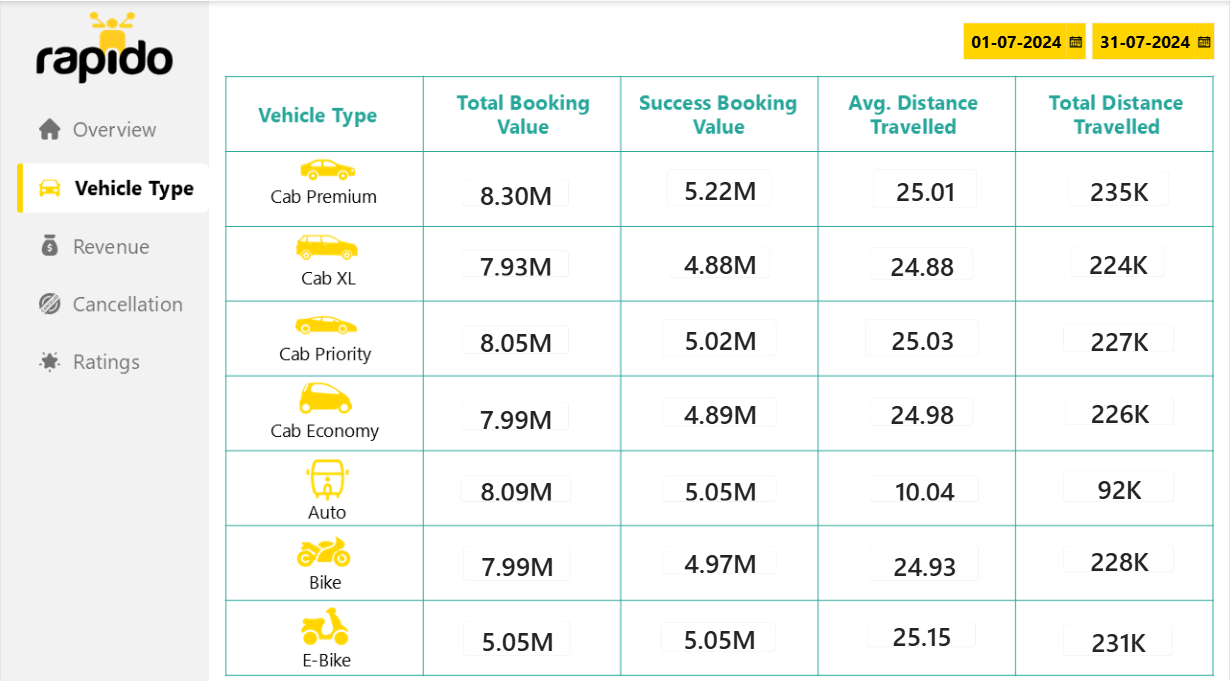

What the dashboard file says about the page in this screenshot:
{"tool":"powerbi","page":{"name":"Vehicle Type","canvas":[1280,720],"ordinal":1},"visuals":[{"type":"actionButton","box":[16.7,106.7,175,51.7],"z":0},{"type":"actionButton","box":[16.7,226.7,175,51.7],"z":1000},{"type":"actionButton","box":[26.7,291.7,175,51.7],"z":2000},{"type":"actionButton","box":[26.7,348.3,175,51.7],"z":3000},{"type":"cardVisual","fields":{"Data":["Sum(Bookings.Booking_Value)"]},"box":[462.6,168.8,146.9,62.5],"z":4000},{"type":"cardVisual","fields":{"Data":["Sum(Bookings.Booking_Value)"]},"box":[462.6,242.3,146.9,62.5],"z":5000},{"type":"cardVisual","fields":{"Data":["Sum(Bookings.Booking_Value)"]},"box":[462.6,320.4,146.9,64.1],"z":6000},{"type":"cardVisual","fields":{"Data":["Sum(Bookings.Booking_Value)"]},"box":[462.6,400.1,146.9,64.1],"z":7000},{"type":"cardVisual","fields":{"Data":["Sum(Bookings.Booking_Value)"]},"box":[461.1,476.7,150,62.5],"z":8000},{"type":"cardVisual","fields":{"Data":["Sum(Bookings.Booking_Value)"]},"box":[464.2,550.2,146.9,71.9],"z":9000},{"type":"cardVisual","fields":{"Data":["Sum(Bookings.Booking_Value)"]},"box":[464.2,628.3,146.9,71.9],"z":10000},{"type":"cardVisual","fields":{"Data":["Sum(Bookings.Booking_Value)"]},"box":[676.8,157.9,143.8,73.5],"z":11000},{"type":"cardVisual","fields":{"Data":["Sum(Bookings.Booking_Value)"]},"box":[678.3,237.6,140.7,68.8],"z":12000},{"type":"cardVisual","fields":{"Data":["Sum(Bookings.Booking_Value)"]},"box":[672.1,314.2,153.2,73.5],"z":13000},{"type":"cardVisual","fields":{"Data":["Sum(Bookings.Booking_Value)"]},"box":[672.1,395.4,153.2,65.6],"z":14000},{"type":"cardVisual","fields":{"Data":["Sum(Bookings.Booking_Value)"]},"box":[672.1,476.7,153.2,62.5],"z":15000},{"type":"cardVisual","fields":{"Data":["Sum(Bookings.Booking_Value)"]},"box":[672.1,550.2,153.2,64.1],"z":16000},{"type":"cardVisual","fields":{"Data":["Sum(Bookings.Booking_Value)"]},"box":[670.5,629.9,154.7,65.6],"z":17000},{"type":"cardVisual","fields":{"Data":["Avg(Bookings.Ride_Distance)"]},"box":[890.9,157.9,143.8,75],"z":18000},{"type":"cardVisual","fields":{"Data":["Sum(Bookings.Ride_Distance)"]},"box":[1094.1,159.4,140.7,71.9],"z":19000},{"type":"cardVisual","fields":{"Data":["Avg(Bookings.Ride_Distance)"]},"box":[887.8,239.1,142.2,68.8],"z":20000},{"type":"cardVisual","fields":{"Data":["Sum(Bookings.Ride_Distance)"]},"box":[1097.2,237.6,132.9,67.2],"z":21000},{"type":"cardVisual","fields":{"Data":["Avg(Bookings.Ride_Distance)"]},"box":[883.1,314.2,153.2,73.5],"z":22000},{"type":"cardVisual","fields":{"Data":["Avg(Bookings.Ride_Distance)"]},"box":[887.8,395.4,142.2,64.1],"z":23000},{"type":"cardVisual","fields":{"Data":["Avg(Bookings.Ride_Distance)"]},"box":[887.8,476.7,148.5,62.5],"z":24000},{"type":"cardVisual","fields":{"Data":["Avg(Bookings.Ride_Distance)"]},"box":[887.8,550.2,148.5,71.9],"z":25000},{"type":"cardVisual","fields":{"Data":["Avg(Bookings.Ride_Distance)"]},"box":[884.7,628.3,148.5,62.5],"z":26000},{"type":"cardVisual","fields":{"Data":["Sum(Bookings.Ride_Distance)"]},"box":[1089.4,318.8,150,64.1],"z":27000},{"type":"cardVisual","fields":{"Data":["Sum(Bookings.Ride_Distance)"]},"box":[1091,393.9,148.5,65.6],"z":28000},{"type":"cardVisual","fields":{"Data":["Sum(Bookings.Ride_Distance)"]},"box":[1089.4,631.4,148.5,68.8],"z":29000},{"type":"cardVisual","fields":{"Data":["Sum(Bookings.Ride_Distance)"]},"box":[1089.4,472,150,67.2],"z":30000},{"type":"cardVisual","fields":{"Data":["Sum(Bookings.Ride_Distance)"]},"box":[1089.4,550.2,150,62.5],"z":31000},{"type":"slicer","fields":{"Values":["Bookings.Date"]},"box":[989.4,12.5,289.2,64.1],"z":32000}]}

Visuals, with their boxes on the page's 1280x720 design canvas (x1, y1, x2, y2). These are canvas units, not pixel positions in the 1230x681 screenshot, which may show the page scaled, cropped or inside an application window:
actionButton: bbox=[17, 107, 192, 158]
actionButton: bbox=[17, 227, 192, 278]
actionButton: bbox=[27, 292, 202, 343]
actionButton: bbox=[27, 348, 202, 400]
cardVisual - Sum(Bookings.Booking_Value): bbox=[463, 169, 610, 231]
cardVisual - Sum(Bookings.Booking_Value): bbox=[463, 242, 610, 305]
cardVisual - Sum(Bookings.Booking_Value): bbox=[463, 320, 610, 384]
cardVisual - Sum(Bookings.Booking_Value): bbox=[463, 400, 610, 464]
cardVisual - Sum(Bookings.Booking_Value): bbox=[461, 477, 611, 539]
cardVisual - Sum(Bookings.Booking_Value): bbox=[464, 550, 611, 622]
cardVisual - Sum(Bookings.Booking_Value): bbox=[464, 628, 611, 700]
cardVisual - Sum(Bookings.Booking_Value): bbox=[677, 158, 821, 231]
cardVisual - Sum(Bookings.Booking_Value): bbox=[678, 238, 819, 306]
cardVisual - Sum(Bookings.Booking_Value): bbox=[672, 314, 825, 388]
cardVisual - Sum(Bookings.Booking_Value): bbox=[672, 395, 825, 461]
cardVisual - Sum(Bookings.Booking_Value): bbox=[672, 477, 825, 539]
cardVisual - Sum(Bookings.Booking_Value): bbox=[672, 550, 825, 614]
cardVisual - Sum(Bookings.Booking_Value): bbox=[670, 630, 825, 696]
cardVisual - Avg(Bookings.Ride_Distance): bbox=[891, 158, 1035, 233]
cardVisual - Sum(Bookings.Ride_Distance): bbox=[1094, 159, 1235, 231]
cardVisual - Avg(Bookings.Ride_Distance): bbox=[888, 239, 1030, 308]
cardVisual - Sum(Bookings.Ride_Distance): bbox=[1097, 238, 1230, 305]
cardVisual - Avg(Bookings.Ride_Distance): bbox=[883, 314, 1036, 388]
cardVisual - Avg(Bookings.Ride_Distance): bbox=[888, 395, 1030, 460]
cardVisual - Avg(Bookings.Ride_Distance): bbox=[888, 477, 1036, 539]
cardVisual - Avg(Bookings.Ride_Distance): bbox=[888, 550, 1036, 622]
cardVisual - Avg(Bookings.Ride_Distance): bbox=[885, 628, 1033, 691]
cardVisual - Sum(Bookings.Ride_Distance): bbox=[1089, 319, 1239, 383]
cardVisual - Sum(Bookings.Ride_Distance): bbox=[1091, 394, 1240, 460]
cardVisual - Sum(Bookings.Ride_Distance): bbox=[1089, 631, 1238, 700]
cardVisual - Sum(Bookings.Ride_Distance): bbox=[1089, 472, 1239, 539]
cardVisual - Sum(Bookings.Ride_Distance): bbox=[1089, 550, 1239, 613]
slicer - Bookings.Date: bbox=[989, 12, 1279, 77]
